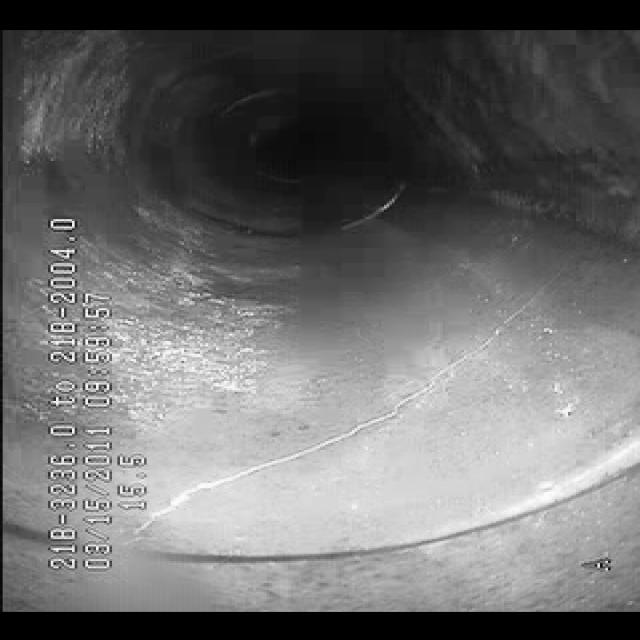Crack: (135, 345, 518, 513)
